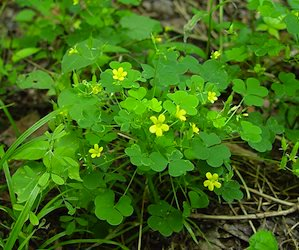oxalis: (64, 48, 266, 174)
